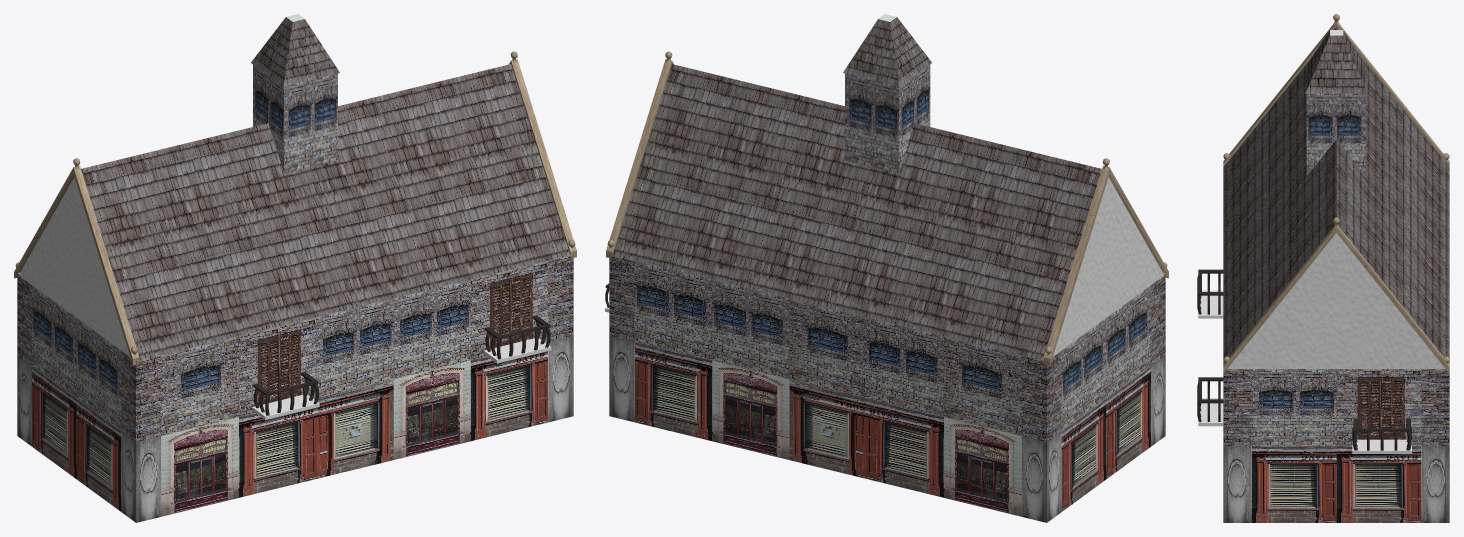
File: House_008.dae
3 renders of one model, left to right at view 1: azimuth 30°, elevation 25°; view 2: azimuth 150°, elevation 25°; view 3: azimuth 270°, elevation 25°, orthographic. The views are drawn at different scales.
Visible parts, largest first — view 1: House_008; view 2: House_008; view 3: House_008.
Boxes of the visible parts, x1,y1,x2,y2 form: House_008: [14, 14, 576, 522]; House_008: [605, 14, 1168, 522]; House_008: [1197, 14, 1449, 522].
Size of the model in its own units: 145 by 71.37 by 121.
